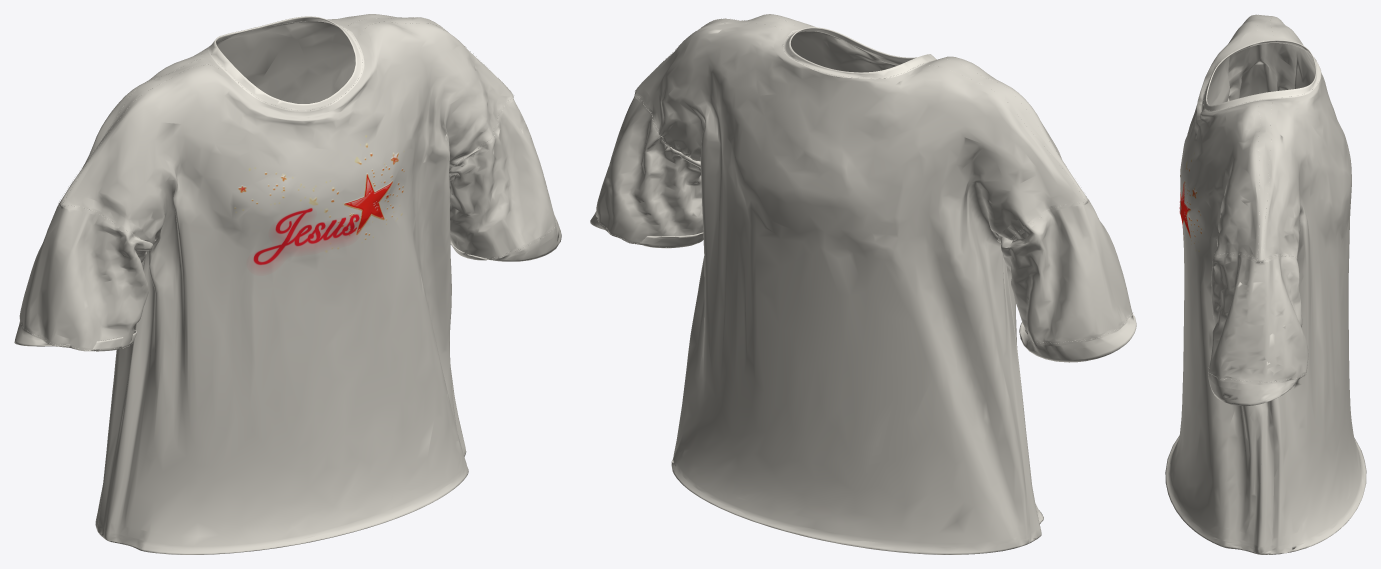
The picture shows the model from 3 angles, left to right: view 1: azimuth 30°, elevation 25°; view 2: azimuth 150°, elevation 25°; view 3: azimuth 270°, elevation 25°; orthographic projection. The views are drawn at different scales.
Visible parts, largest first — view 1: Raw-hem heavyweight tee - cloth, Archive_Print_front_0; view 2: Raw-hem heavyweight tee - cloth; view 3: Raw-hem heavyweight tee - cloth, Archive_Print_front_0.
Boxes of the visible parts, x1,y1,x2,y2 form: Raw-hem heavyweight tee - cloth: [14, 14, 561, 554]; Archive_Print_front_0: [234, 135, 404, 265]; Raw-hem heavyweight tee - cloth: [590, 14, 1136, 554]; Raw-hem heavyweight tee - cloth: [1165, 14, 1366, 554]; Archive_Print_front_0: [1179, 159, 1201, 251].
Size of the model in its own units: 0.7812 by 0.633 by 0.28.
4 materials, 1 textured.
